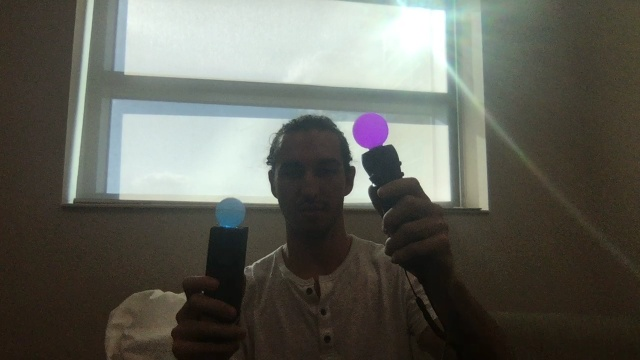wand: (354, 112, 388, 150), (216, 198, 246, 227)
